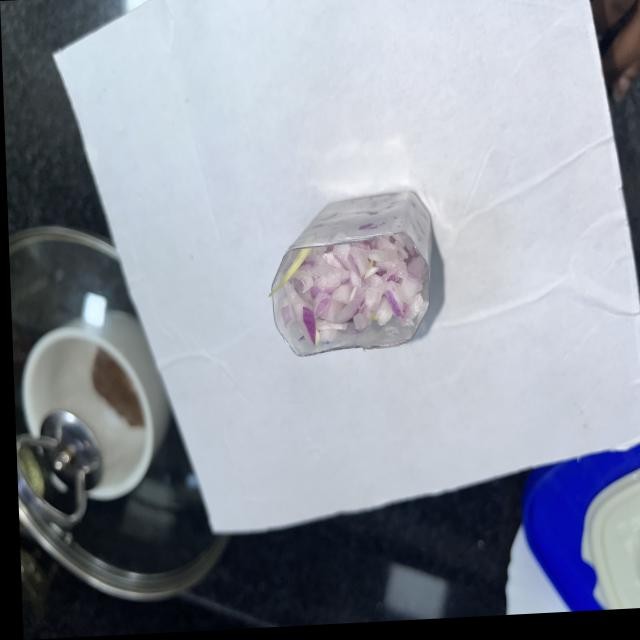sliced_onions: (266, 240, 424, 354)
